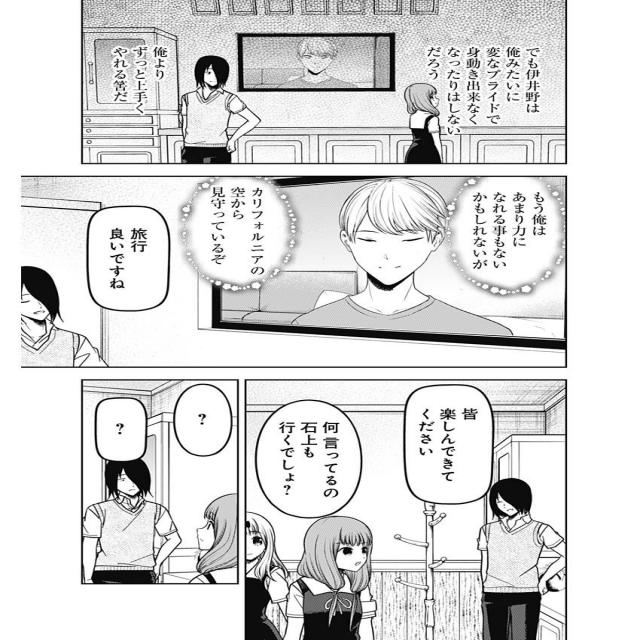Bubble: (445, 177, 565, 296), (180, 175, 299, 292), (252, 397, 364, 519), (401, 383, 497, 505), (86, 204, 171, 313), (172, 383, 233, 458), (93, 394, 147, 461)
